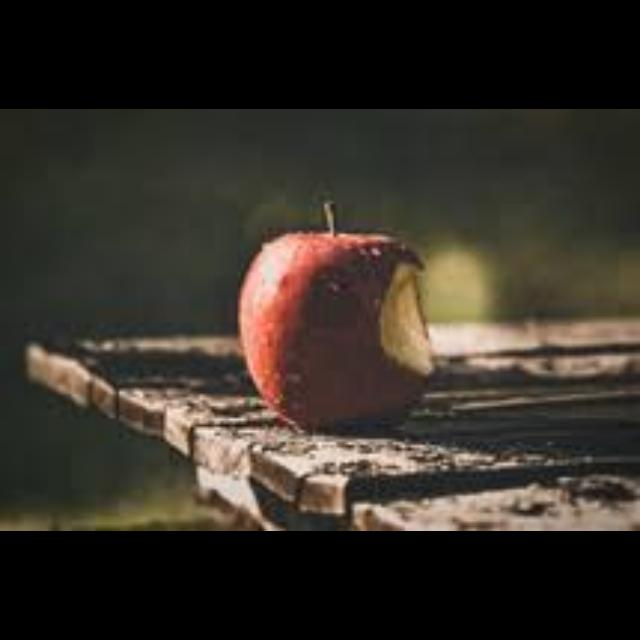apple: (238, 201, 432, 428)
scratch: (380, 264, 432, 374)
